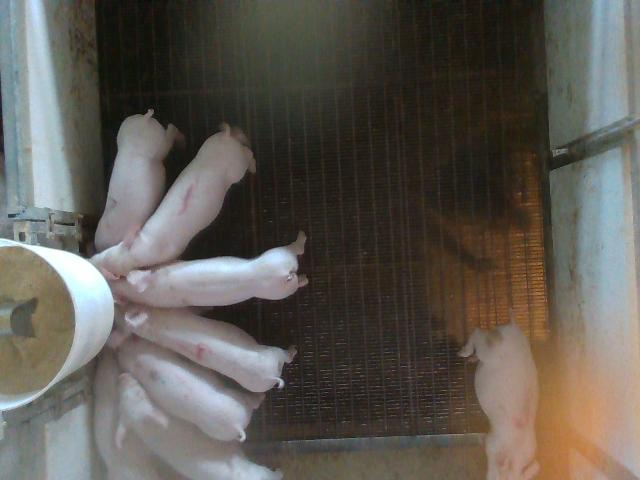pig-1: (92, 125, 255, 290)
pig-3: (459, 316, 539, 478)
pig-4: (106, 304, 296, 392)
